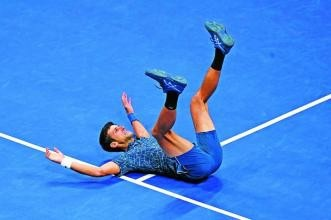falling: (26, 21, 264, 180)
